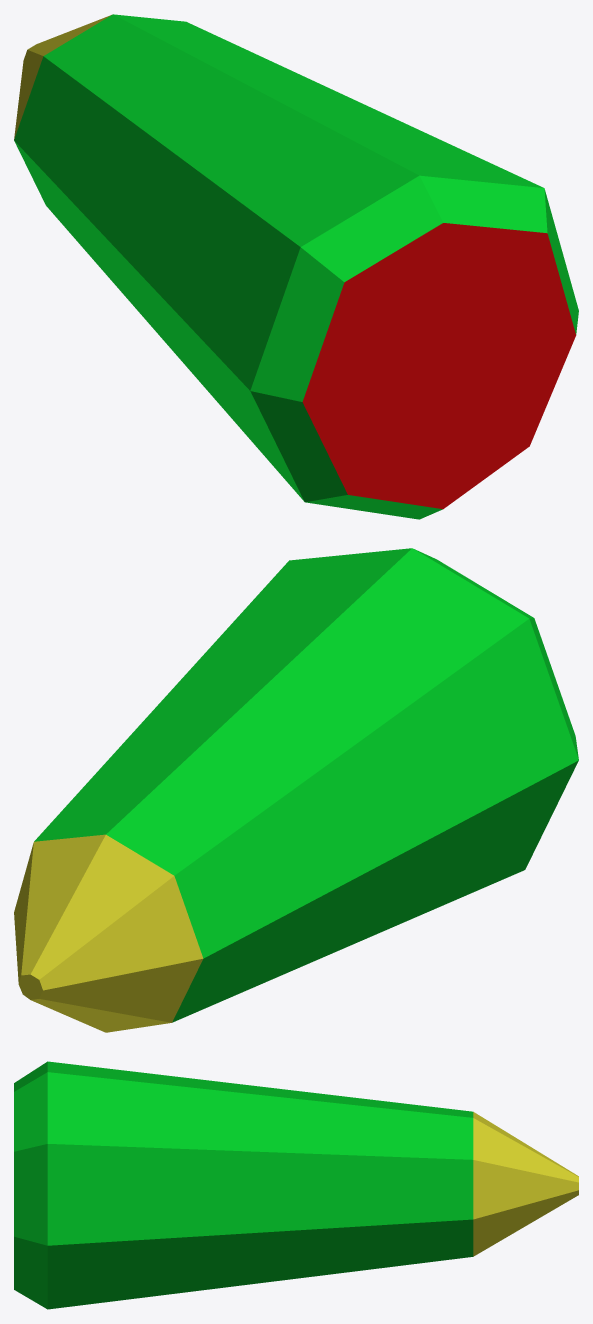
Rendered from torpedo.obj.
The picture shows the model from 3 angles, top to bottom: view 1: azimuth 30°, elevation 25°; view 2: azimuth 150°, elevation 25°; view 3: azimuth 270°, elevation 25°; orthographic projection. The views are drawn at different scales.
Parts seen in each view (by area): view 1: Cube; view 2: Cube; view 3: Cube.
Boxes of the visible parts, bbox=[...] form: Cube: bbox=[14, 14, 578, 519]; Cube: bbox=[14, 548, 578, 1032]; Cube: bbox=[14, 1061, 578, 1309].
Bounding box in the file's own units: 8.88 × 8.88 × 19.18.
